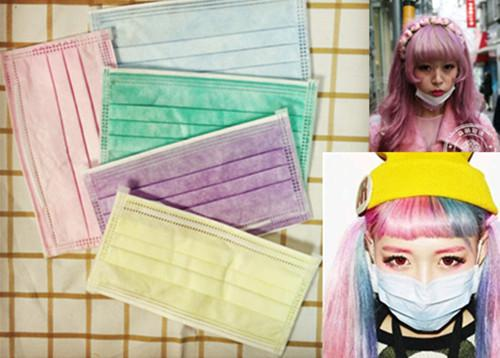OK: (379, 235, 469, 325)
WRONG: (415, 55, 464, 104)
